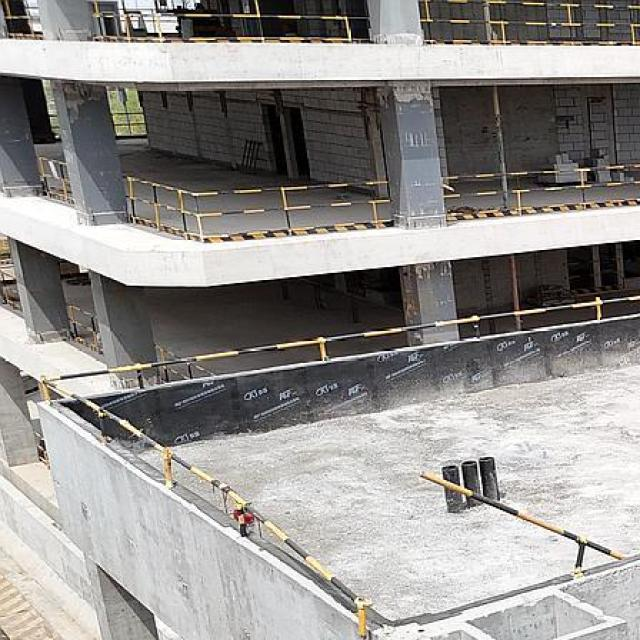edge_guardrail: (43, 296, 640, 637), (122, 175, 394, 244), (91, 0, 369, 44), (441, 164, 640, 216), (418, 0, 640, 45), (154, 341, 216, 383), (3, 0, 44, 37), (68, 302, 98, 348), (38, 156, 69, 198), (34, 431, 49, 465), (0, 270, 16, 301)
